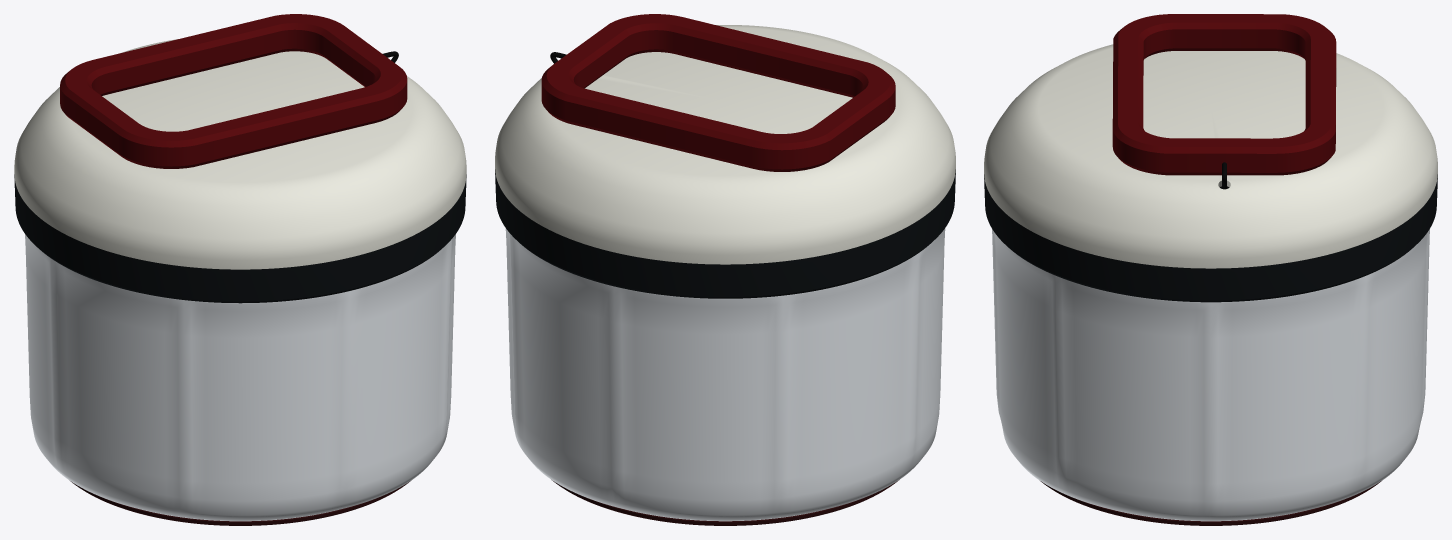
3 renders of one model, left to right at view 1: azimuth 30°, elevation 25°; view 2: azimuth 150°, elevation 25°; view 3: azimuth 270°, elevation 25°, orthographic.
Parts seen in each view (by area): view 1: part_016_Clear_ribbed_bowl, part_000_White_upper_shell, part_009_Pull_grip_loop, part_015_Dark_lid_collar, part_010_Non-slip_foot; view 2: part_016_Clear_ribbed_bowl, part_000_White_upper_shell, part_009_Pull_grip_loop, part_015_Dark_lid_collar, part_010_Non-slip_foot; view 3: part_016_Clear_ribbed_bowl, part_000_White_upper_shell, part_009_Pull_grip_loop, part_015_Dark_lid_collar, part_010_Non-slip_foot.
Boxes of the visible parts, x1=… form: part_016_Clear_ribbed_bowl: x1=25, y1=234, x2=455, y2=521; part_000_White_upper_shell: x1=14, y1=39, x2=466, y2=269; part_009_Pull_grip_loop: x1=60, y1=14, x2=407, y2=168; part_015_Dark_lid_collar: x1=14, y1=174, x2=466, y2=303; part_010_Non-slip_foot: x1=70, y1=481, x2=410, y2=525; part_016_Clear_ribbed_bowl: x1=505, y1=228, x2=945, y2=521; part_000_White_upper_shell: x1=495, y1=25, x2=955, y2=264; part_009_Pull_grip_loop: x1=541, y1=14, x2=895, y2=171; part_015_Dark_lid_collar: x1=495, y1=169, x2=955, y2=298; part_010_Non-slip_foot: x1=552, y1=480, x2=898, y2=525; part_016_Clear_ribbed_bowl: x1=992, y1=229, x2=1429, y2=521; part_000_White_upper_shell: x1=984, y1=44, x2=1437, y2=268; part_009_Pull_grip_loop: x1=1112, y1=14, x2=1336, y2=175; part_015_Dark_lid_collar: x1=984, y1=174, x2=1437, y2=302; part_010_Non-slip_foot: x1=1040, y1=481, x2=1381, y2=525.
Bounding box in the file's own units: 0.134 × 0.119 × 0.134.
